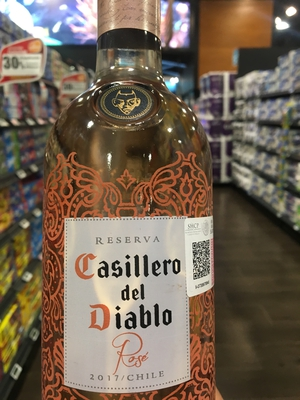casillero del diablo rose: (29, 23, 227, 399)
